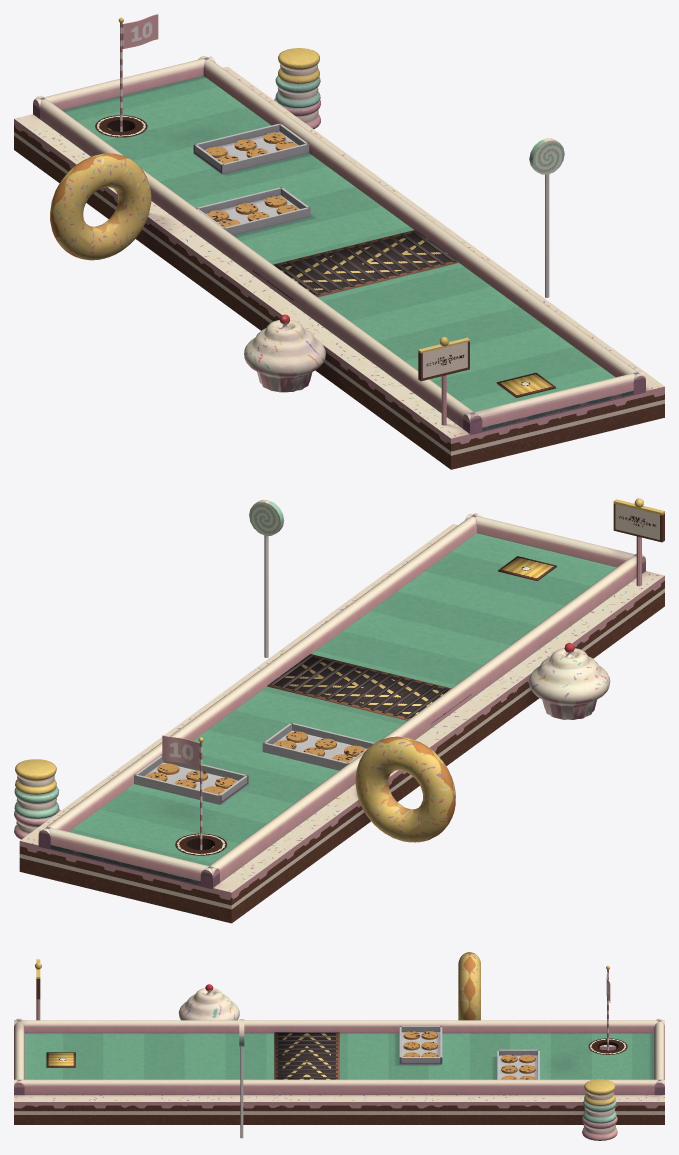
File: hole10.glb
3 views of the same model, one above another, from view 1: azimuth 30°, elevation 25°; view 2: azimuth 150°, elevation 25°; view 3: azimuth 270°, elevation 25° (orthographic). The views are drawn at different scales.
Parts seen in each view (by area): view 1: Green, Base, Rails, Decor4, CookieTrays, ConveyorBelt, Decor1, Decor3, ConveyorSlats, Cookies, HoleSign, Decor2 (+3 smaller); view 2: Green, Base, Rails, Decor4, CookieTrays, ConveyorBelt, Decor1, Decor3, ConveyorSlats, HoleSign, Cookies, Decor2 (+3 smaller); view 3: Green, Rails, Base, ConveyorBelt, CookieTrays, Decor3, ConveyorSlats, Decor1, Decor4, Cookies, Decor2, TeeMat (+2 smaller).
Boxes of the visible parts, x1,y1,x2,y2 form: Green: (62,76,633,430); Base: (14,66,664,469); Rails: (33,55,645,434); Decor4: (50,153,151,260); CookieTrays: (193,123,310,235); ConveyorBelt: (273,230,458,296); Decor1: (244,314,325,392); Decor3: (274,48,320,129); ConveyorSlats: (253,230,456,300); Cookies: (206,132,298,227); HoleSign: (418,337,469,425); Decor2: (529,138,564,297); Green: (50,533,616,884); Base: (19,524,664,923); Rails: (38,513,645,889); Decor4: (355,736,455,842); CookieTrays: (134,722,374,804); ConveyorBelt: (267,654,451,720); Decor1: (529,642,610,719); Decor3: (14,759,60,839); ConveyorSlats: (269,654,460,718); HoleSign: (613,498,664,586); Cookies: (146,731,365,794); Decor2: (249,499,284,657); Green: (24,1033,654,1079); Rails: (14,1018,664,1094); Base: (14,1044,664,1124); ConveyorBelt: (274,1032,339,1079); CookieTrays: (399,1026,539,1079); Decor3: (582,1079,617,1140); ConveyorSlats: (276,1032,337,1078); Decor1: (178,984,239,1020); Decor4: (458,952,480,1020); Cookies: (403,1031,535,1079); Decor2: (239,1019,244,1138); TeeMat: (46,1052,75,1067).
Size of what is drawn, in the model's own units: 3.79 by 1.6 by 8.
1 material, 1 textured.
